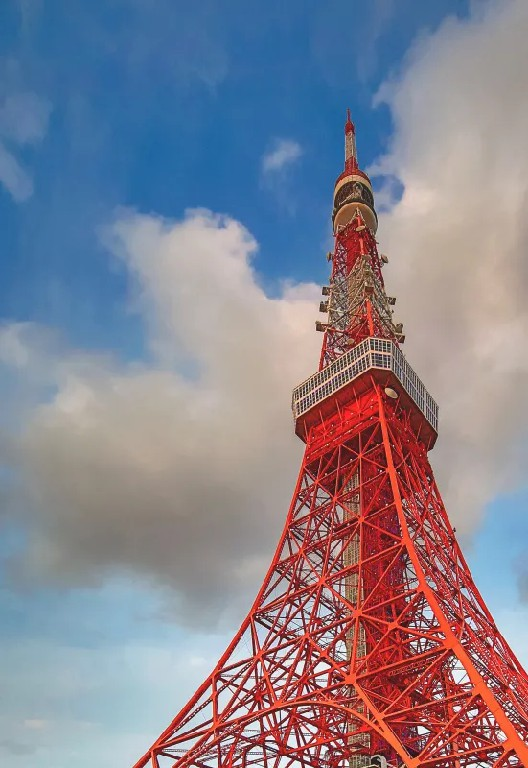Tokyo: (134, 106, 528, 766)
